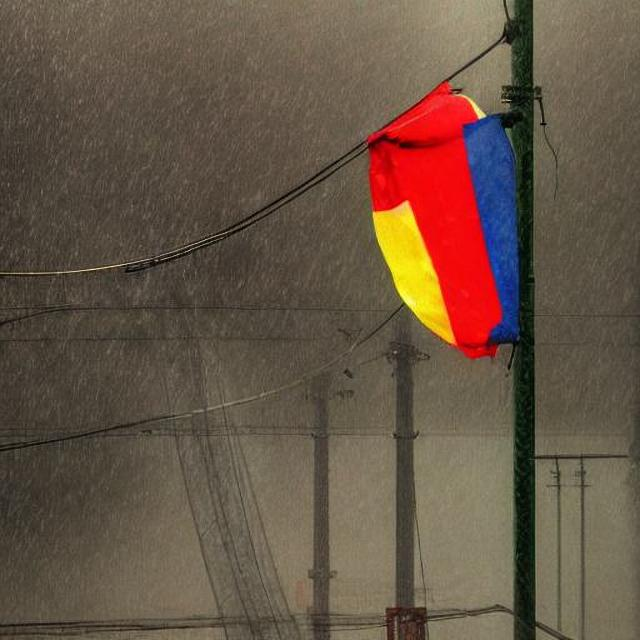floating object: (358, 82, 523, 356)
